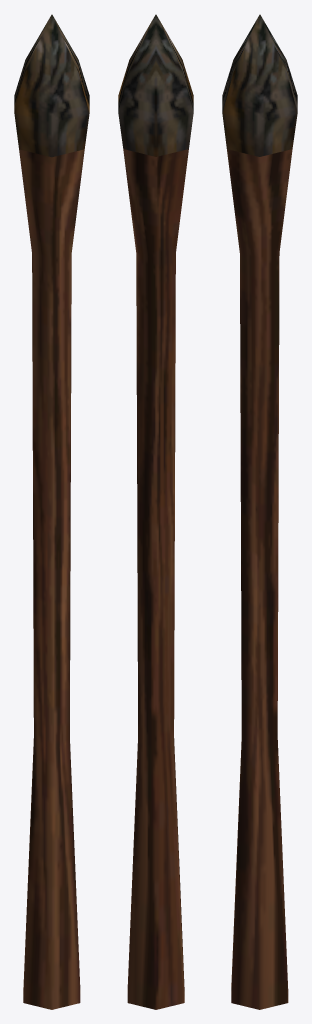
File: INST_OH_TORCH.fbx
The picture shows the model from 3 angles, left to right: view 1: azimuth 30°, elevation 25°; view 2: azimuth 210°, elevation 25°; view 3: azimuth 270°, elevation 25°; orthographic projection.
Parts seen in each view (by area): view 1: INST_OH_TORCH; view 2: INST_OH_TORCH; view 3: INST_OH_TORCH.
Boxes of the visible parts, <box> form: INST_OH_TORCH: <box>14,14,89,1009</box>; INST_OH_TORCH: <box>118,14,193,1009</box>; INST_OH_TORCH: <box>222,14,297,1009</box>.
Bounding box in the file's own units: 1144 × 14280 × 990.
Materials: 2 (2 with a texture image).
